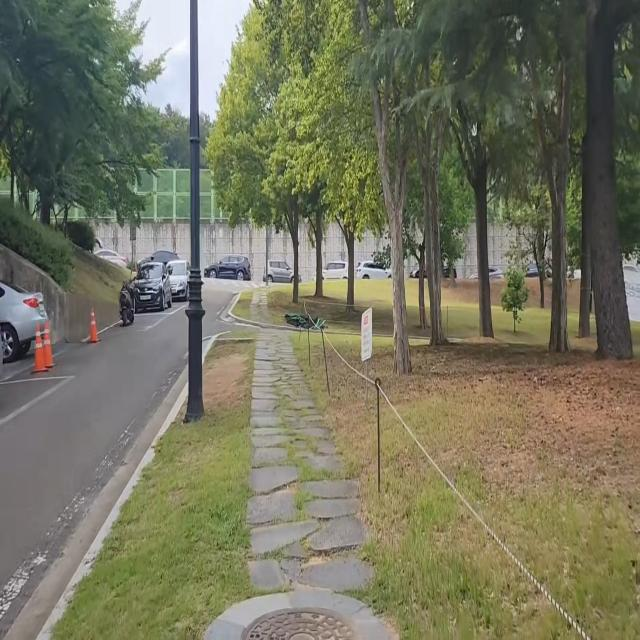obstacle: (186, 0, 207, 416), (0, 259, 55, 385), (124, 258, 192, 330)
road: (0, 281, 235, 640)
sidewalk: (211, 332, 424, 640)
